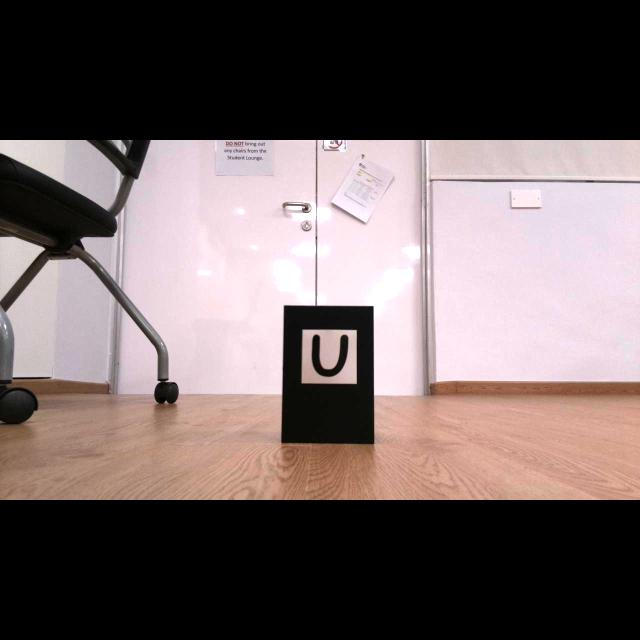U: (312, 334, 349, 377)
